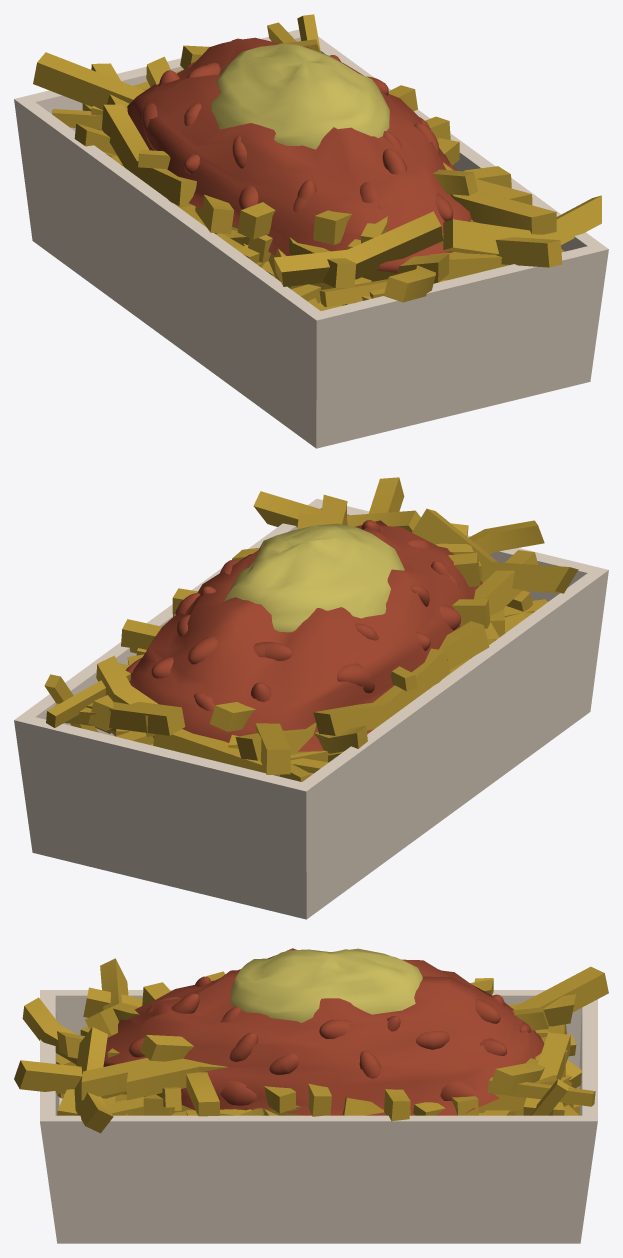
File: mesh_ChiliCheese.fbx
3 renders of one model, top to bottom at view 1: azimuth 30°, elevation 25°; view 2: azimuth 150°, elevation 25°; view 3: azimuth 270°, elevation 25°, orthographic. The views are drawn at different scales.
Visible parts, largest first — view 1: mesh_chiliCheese_Container, mesh_chiliCheese_Fries, mesh_chiliCheese_Beans, mesh_chilliCheese_Cheese; view 2: mesh_chiliCheese_Container, mesh_chiliCheese_Beans, mesh_chiliCheese_Fries, mesh_chilliCheese_Cheese; view 3: mesh_chiliCheese_Container, mesh_chiliCheese_Beans, mesh_chiliCheese_Fries, mesh_chilliCheese_Cheese.
Part boxes in pixels (<box>): mesh_chiliCheese_Container: <box>14,29,608,448</box>; mesh_chiliCheese_Fries: <box>33,14,601,310</box>; mesh_chiliCheese_Beans: <box>127,37,471,273</box>; mesh_chilliCheese_Cheese: <box>211,43,389,149</box>; mesh_chiliCheese_Container: <box>14,498,608,919</box>; mesh_chiliCheese_Beans: <box>125,520,482,751</box>; mesh_chiliCheese_Fries: <box>44,477,578,781</box>; mesh_chilliCheese_Cheese: <box>224,523,404,632</box>; mesh_chiliCheese_Container: <box>40,990,597,1243</box>; mesh_chiliCheese_Beans: <box>103,948,544,1115</box>; mesh_chiliCheese_Fries: <box>14,958,608,1133</box>; mesh_chilliCheese_Cheese: <box>230,948,422,1022</box>.
Bounding box in the file's own units: 0.171 × 0.1257 × 0.2994.
